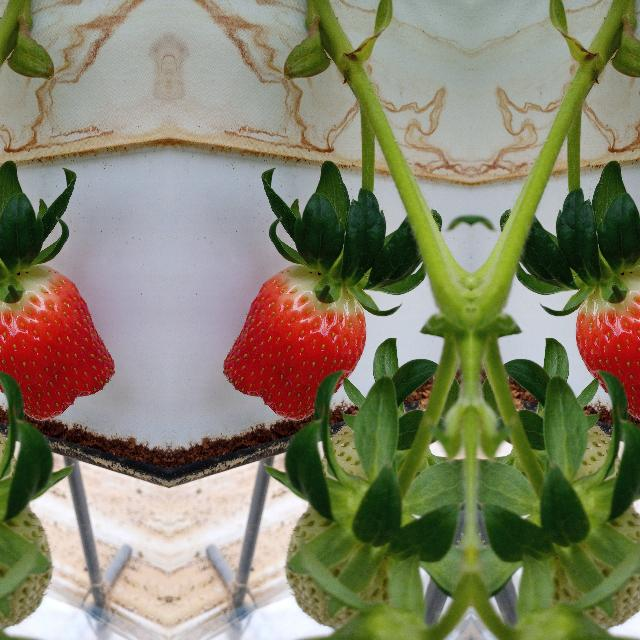Health_100: (220, 264, 366, 422), (0, 264, 115, 421), (575, 264, 640, 421)
Health_25: (288, 501, 400, 627), (541, 501, 640, 627), (0, 501, 48, 627)
